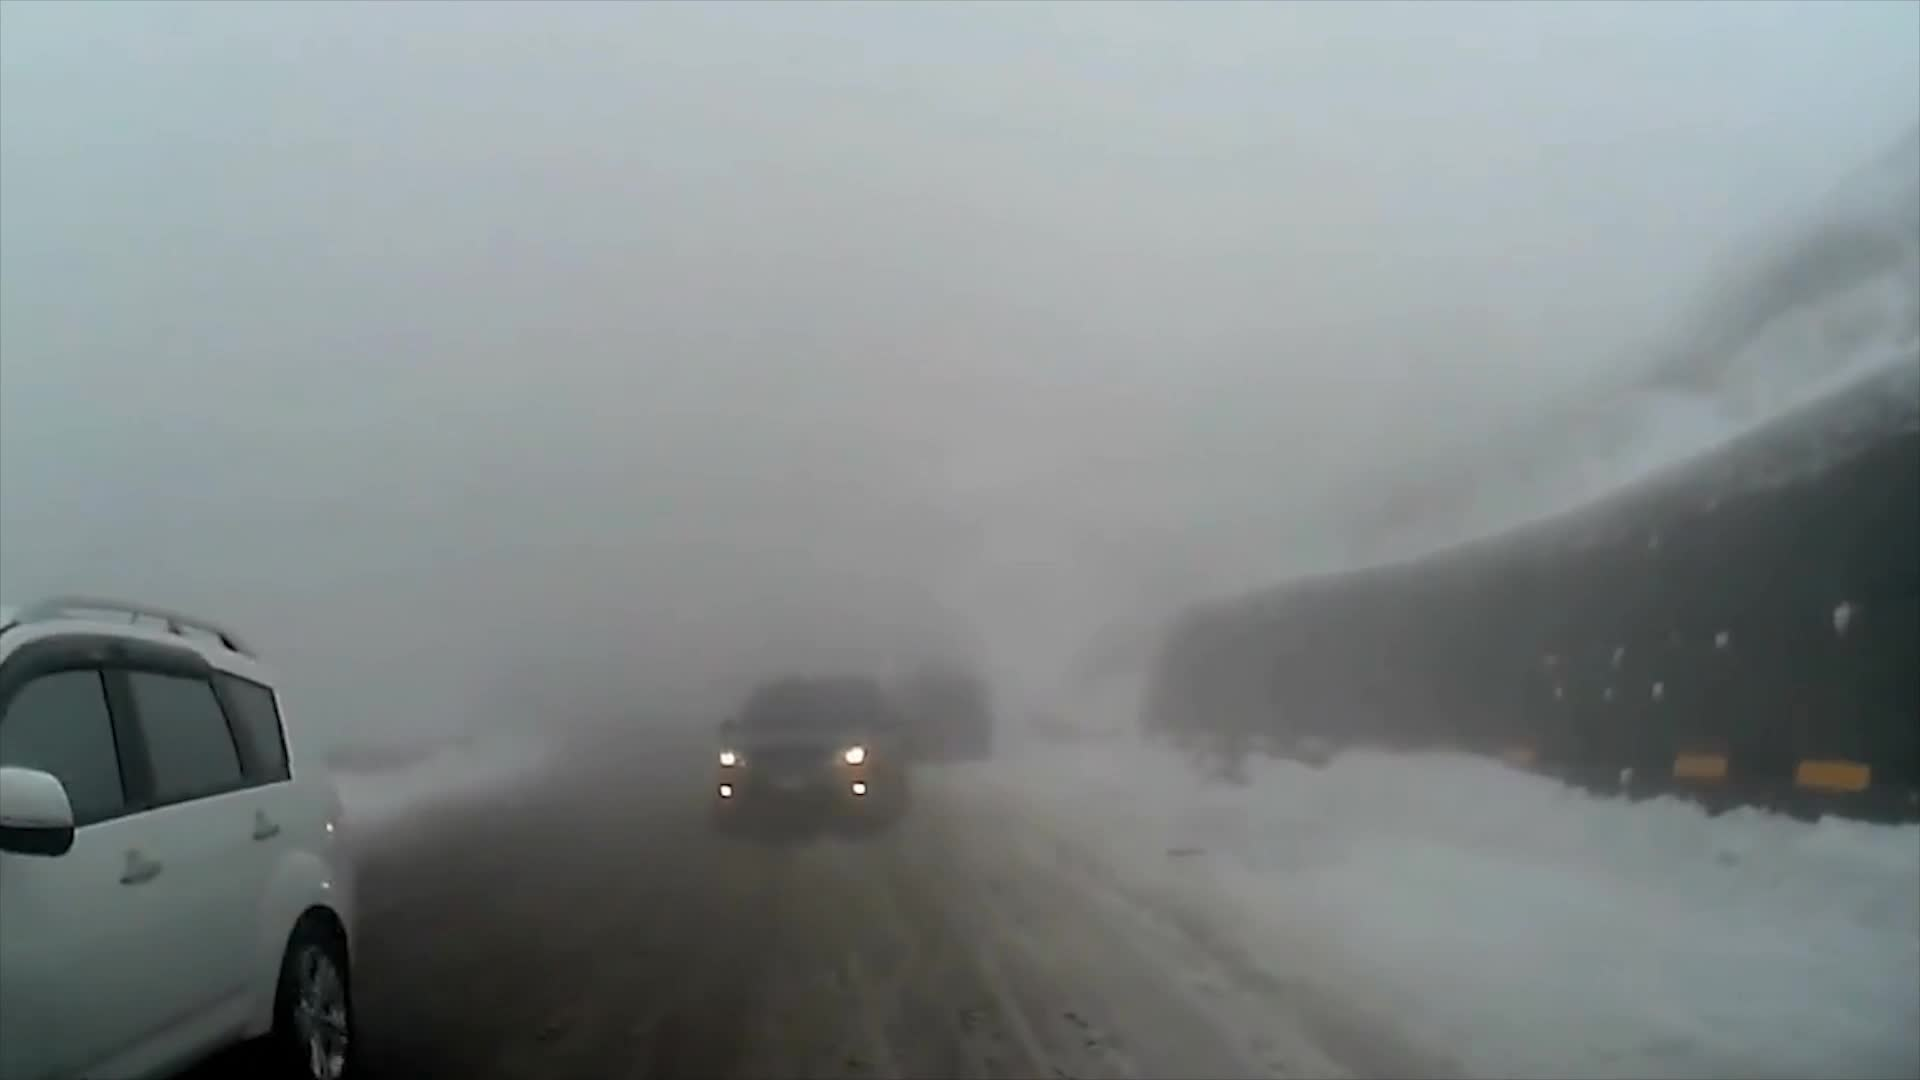vehicle: (0, 595, 365, 1080), (709, 669, 913, 839)
